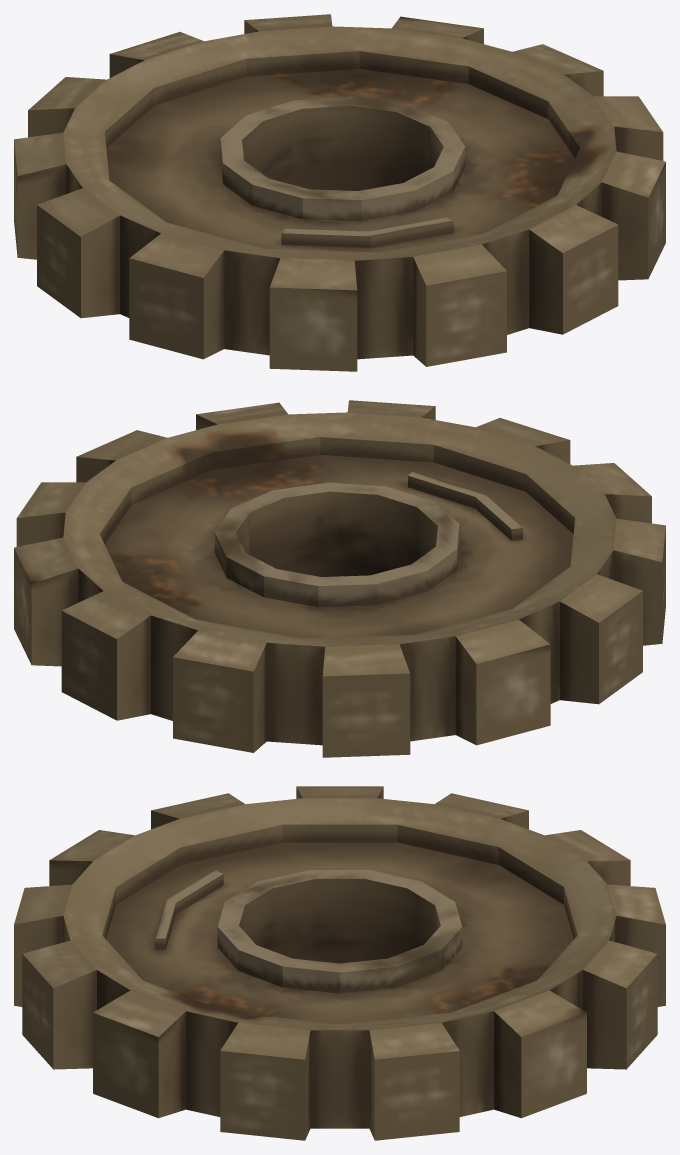
Rendered from gear_cog.glb.
The picture shows the model from 3 angles, top to bottom: view 1: azimuth 30°, elevation 25°; view 2: azimuth 150°, elevation 25°; view 3: azimuth 270°, elevation 25°; orthographic projection.
Parts seen in each view (by area): view 1: SM_Gear; view 2: SM_Gear; view 3: SM_Gear.
Part boxes in pixels (<box>): SM_Gear: <box>14,14,665,371</box>; SM_Gear: <box>14,400,665,757</box>; SM_Gear: <box>14,786,665,1140</box>.
Bounding box in the file's own units: 0.1272 × 0.0213 × 0.1281.
1 material, 1 textured.
